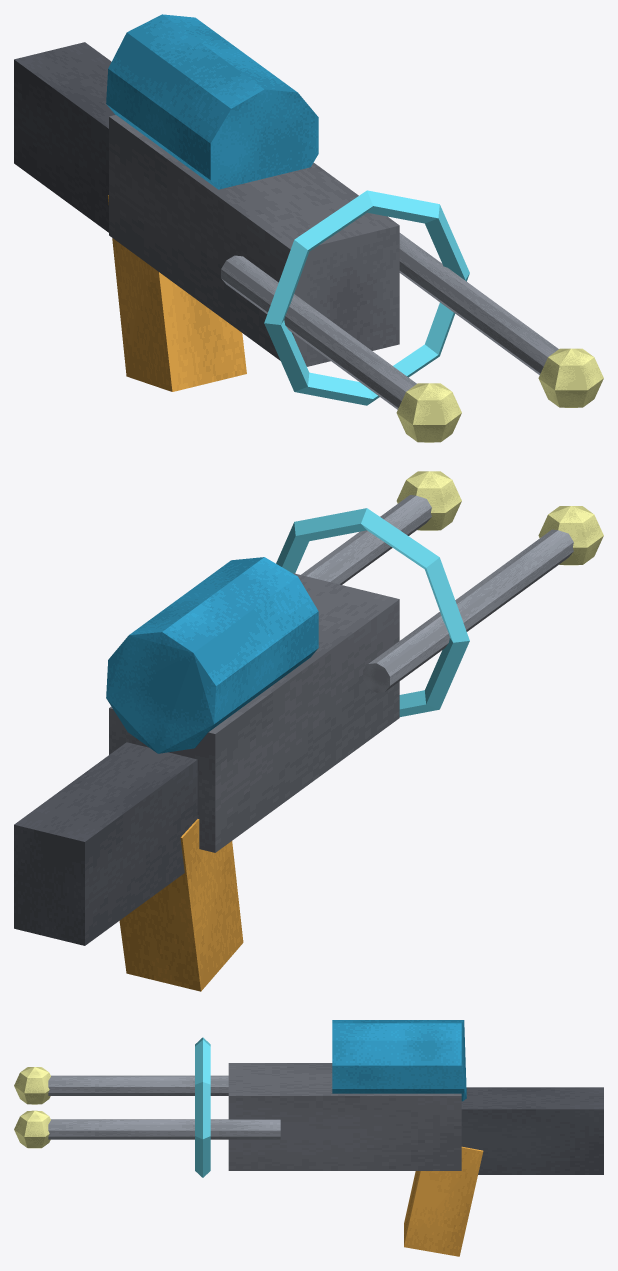
The model's file is weapon_arcthrower.glb.
3 views of the same model, one above another, from view 1: azimuth 30°, elevation 25°; view 2: azimuth 150°, elevation 25°; view 3: azimuth 270°, elevation 25° (orthographic). The views are drawn at different scales.
Parts seen in each view (by area): view 1: weapon_arcthrower; view 2: weapon_arcthrower; view 3: weapon_arcthrower.
Boxes of the visible parts, x1=… form: weapon_arcthrower: x1=14, y1=14, x2=603, y2=442; weapon_arcthrower: x1=14, y1=471, x2=603, y2=991; weapon_arcthrower: x1=14, y1=1020, x2=603, y2=1256.
Bounding box in the file's own units: 0.58 × 0.9473 × 2.28.
1 material, 1 textured.
